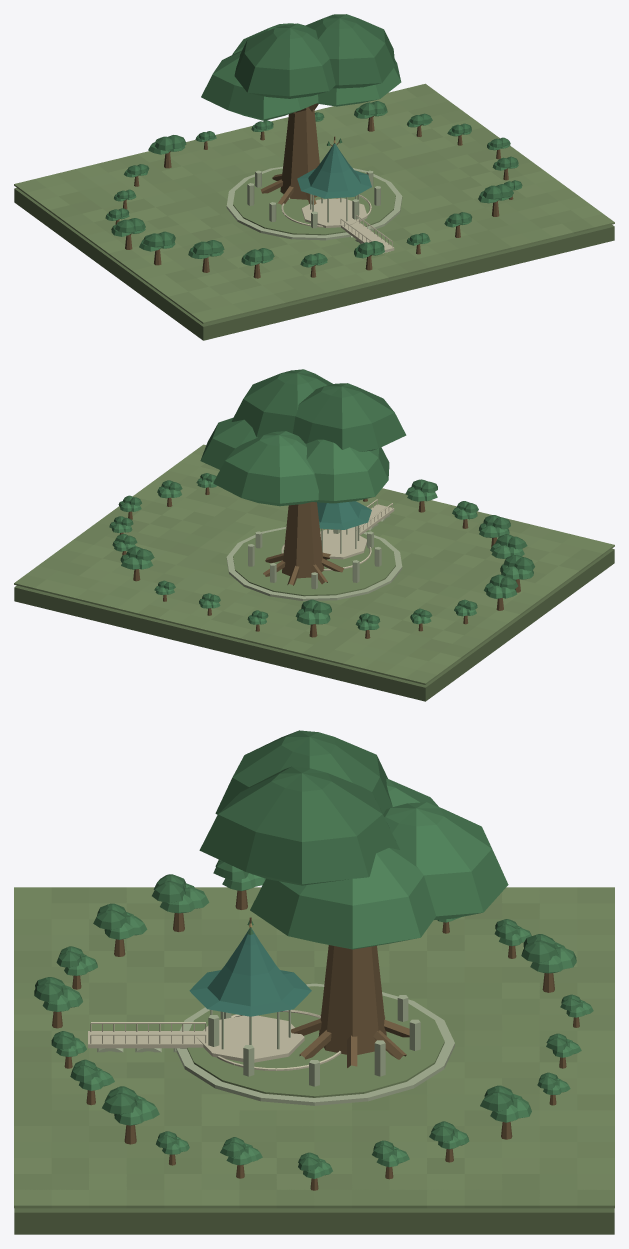
The model's file is grove.glb.
3 views of the same model, one above another, from view 1: azimuth 30°, elevation 25°; view 2: azimuth 150°, elevation 25°; view 3: azimuth 270°, elevation 25° (orthographic). The views are drawn at different scales.
Parts seen in each view (by area): view 1: site, old-tree, landscape, ritual-ring, shrine-roof, shrine; view 2: site, old-tree, landscape, ritual-ring, shrine, shrine-roof; view 3: site, old-tree, landscape, ritual-ring, shrine, shrine-roof.
Part boxes in pixels (<box>): site: <box>14,83,614,340</box>; old-tree: <box>201,14,401,204</box>; landscape: <box>105,101,522,278</box>; ritual-ring: <box>226,166,402,240</box>; shrine-roof: <box>297,140,371,198</box>; shrine: <box>301,194,394,253</box>; site: <box>14,444,614,701</box>; old-tree: <box>200,369,406,585</box>; landscape: <box>109,473,534,638</box>; ritual-ring: <box>226,526,402,600</box>; shrine: <box>320,499,394,559</box>; shrine-roof: <box>317,501,371,529</box>; site: <box>14,887,614,1234</box>; old-tree: <box>199,730,508,1067</box>; landscape: <box>34,859,593,1190</box>; ritual-ring: <box>176,983,454,1105</box>; shrine: <box>88,1010,304,1062</box>; shrine-roof: <box>189,923,311,1016</box>.
Bounding box in the file's own units: 59.01 × 27.74 × 47.06.
